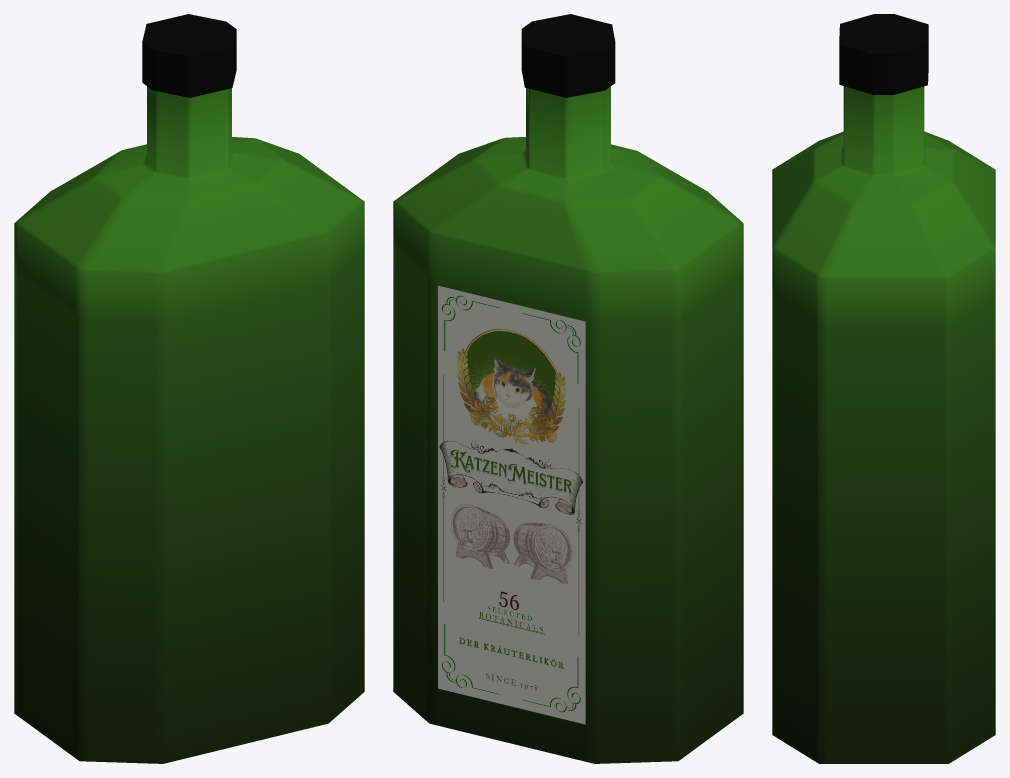
The model's file is digestif.fbx.
The picture shows the model from 3 angles, left to right: view 1: azimuth 30°, elevation 25°; view 2: azimuth 150°, elevation 25°; view 3: azimuth 270°, elevation 25°; orthographic projection.
Visible parts, largest first — view 1: digestif; view 2: digestif; view 3: digestif.
Boxes of the visible parts, x1,y1,x2,y2 form: digestif: [14, 14, 364, 763]; digestif: [393, 14, 743, 763]; digestif: [772, 14, 995, 763].
Bounding box in the file's own units: 139 × 310 × 94.95.
